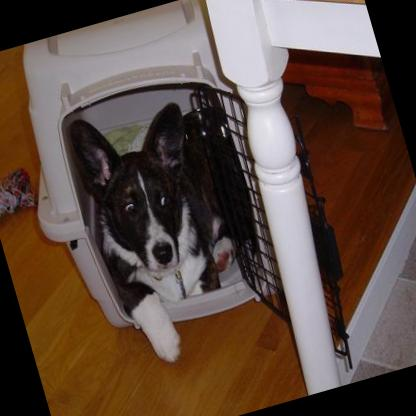Cardigan: (62, 89, 258, 371)
